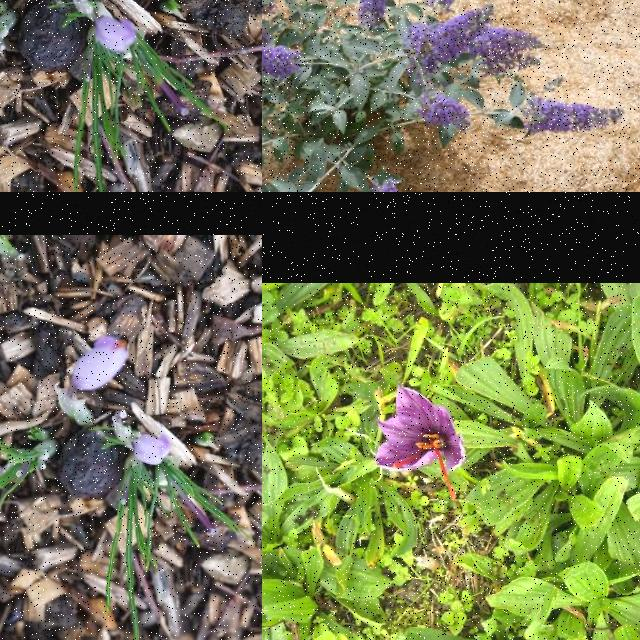flower: (374, 381, 468, 503), (74, 336, 130, 392), (134, 435, 172, 465)
